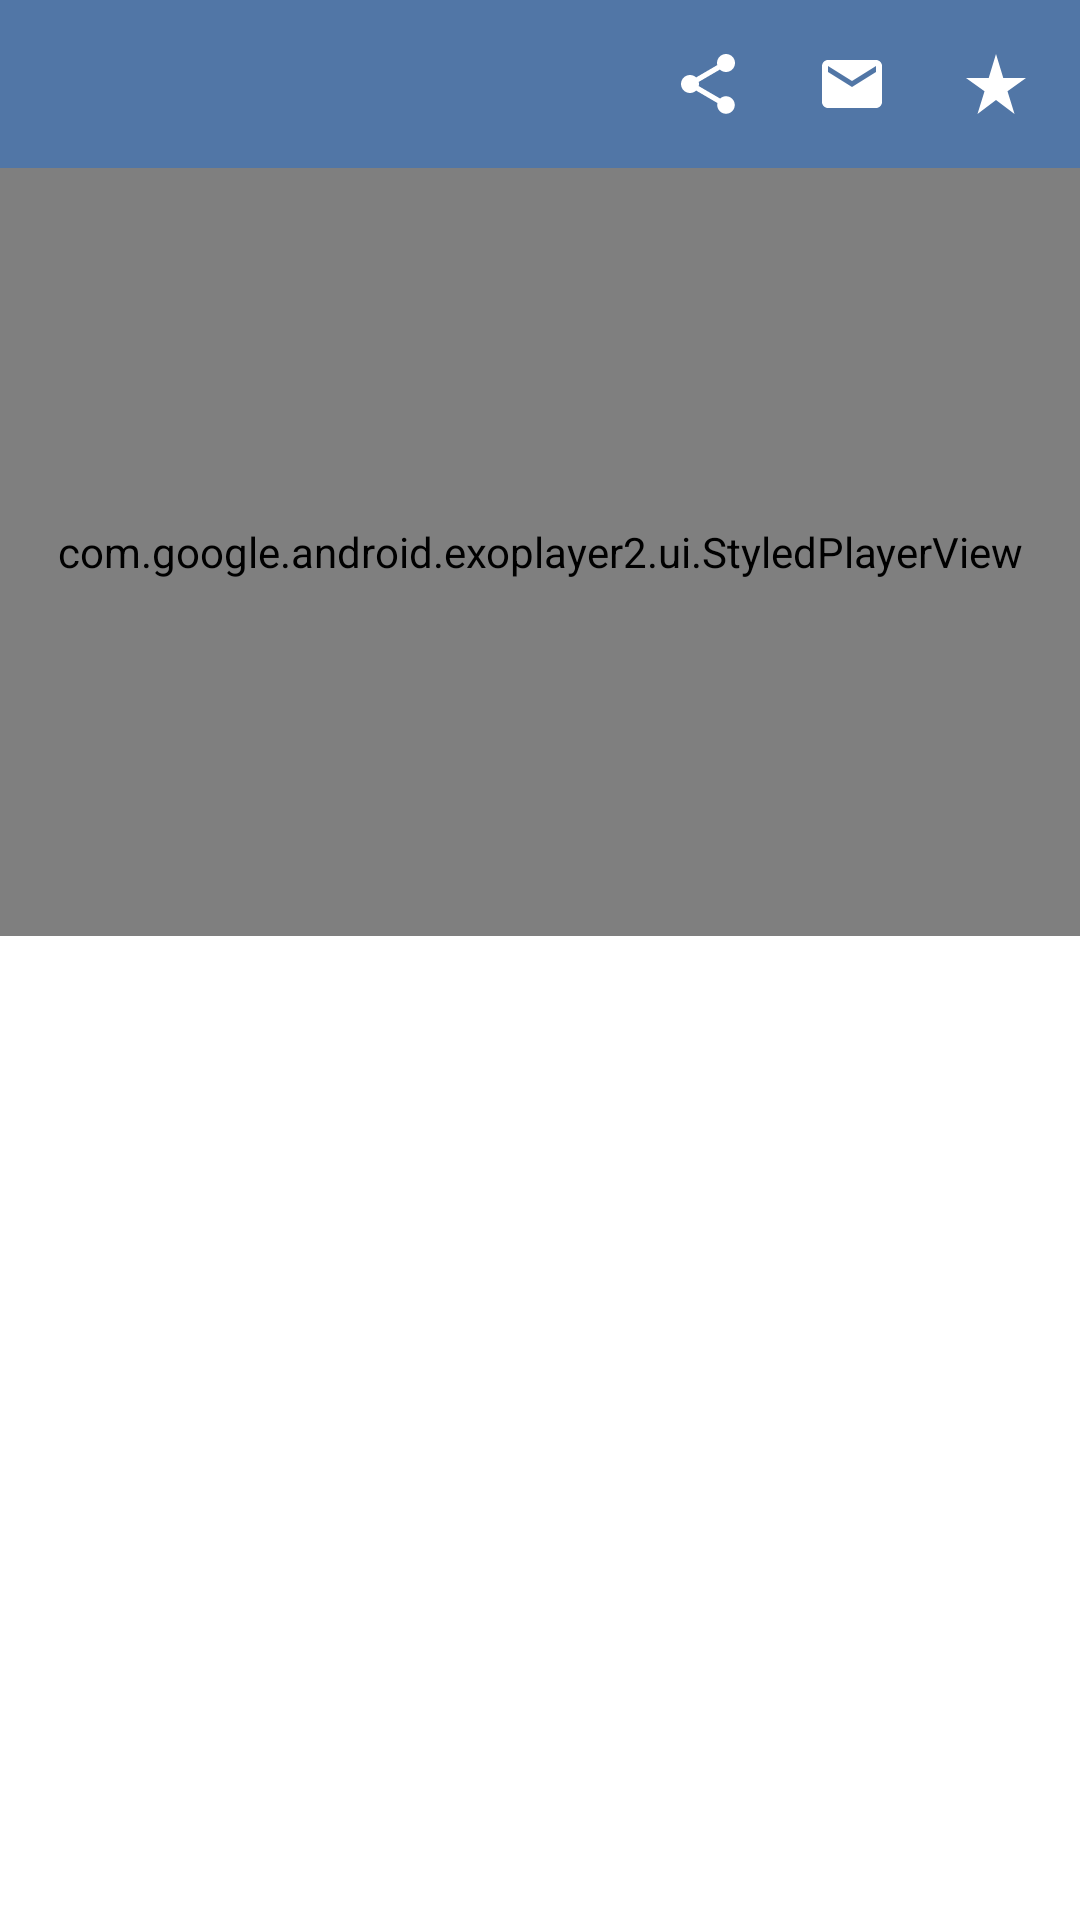

Locate icon controls on the screen. Image size 1080 × 1920, boxes as (x1, y1, x2, y2).
bar email: (822, 60, 882, 108)
bar rate: (966, 54, 1026, 114)
bar share: (681, 54, 735, 114)
